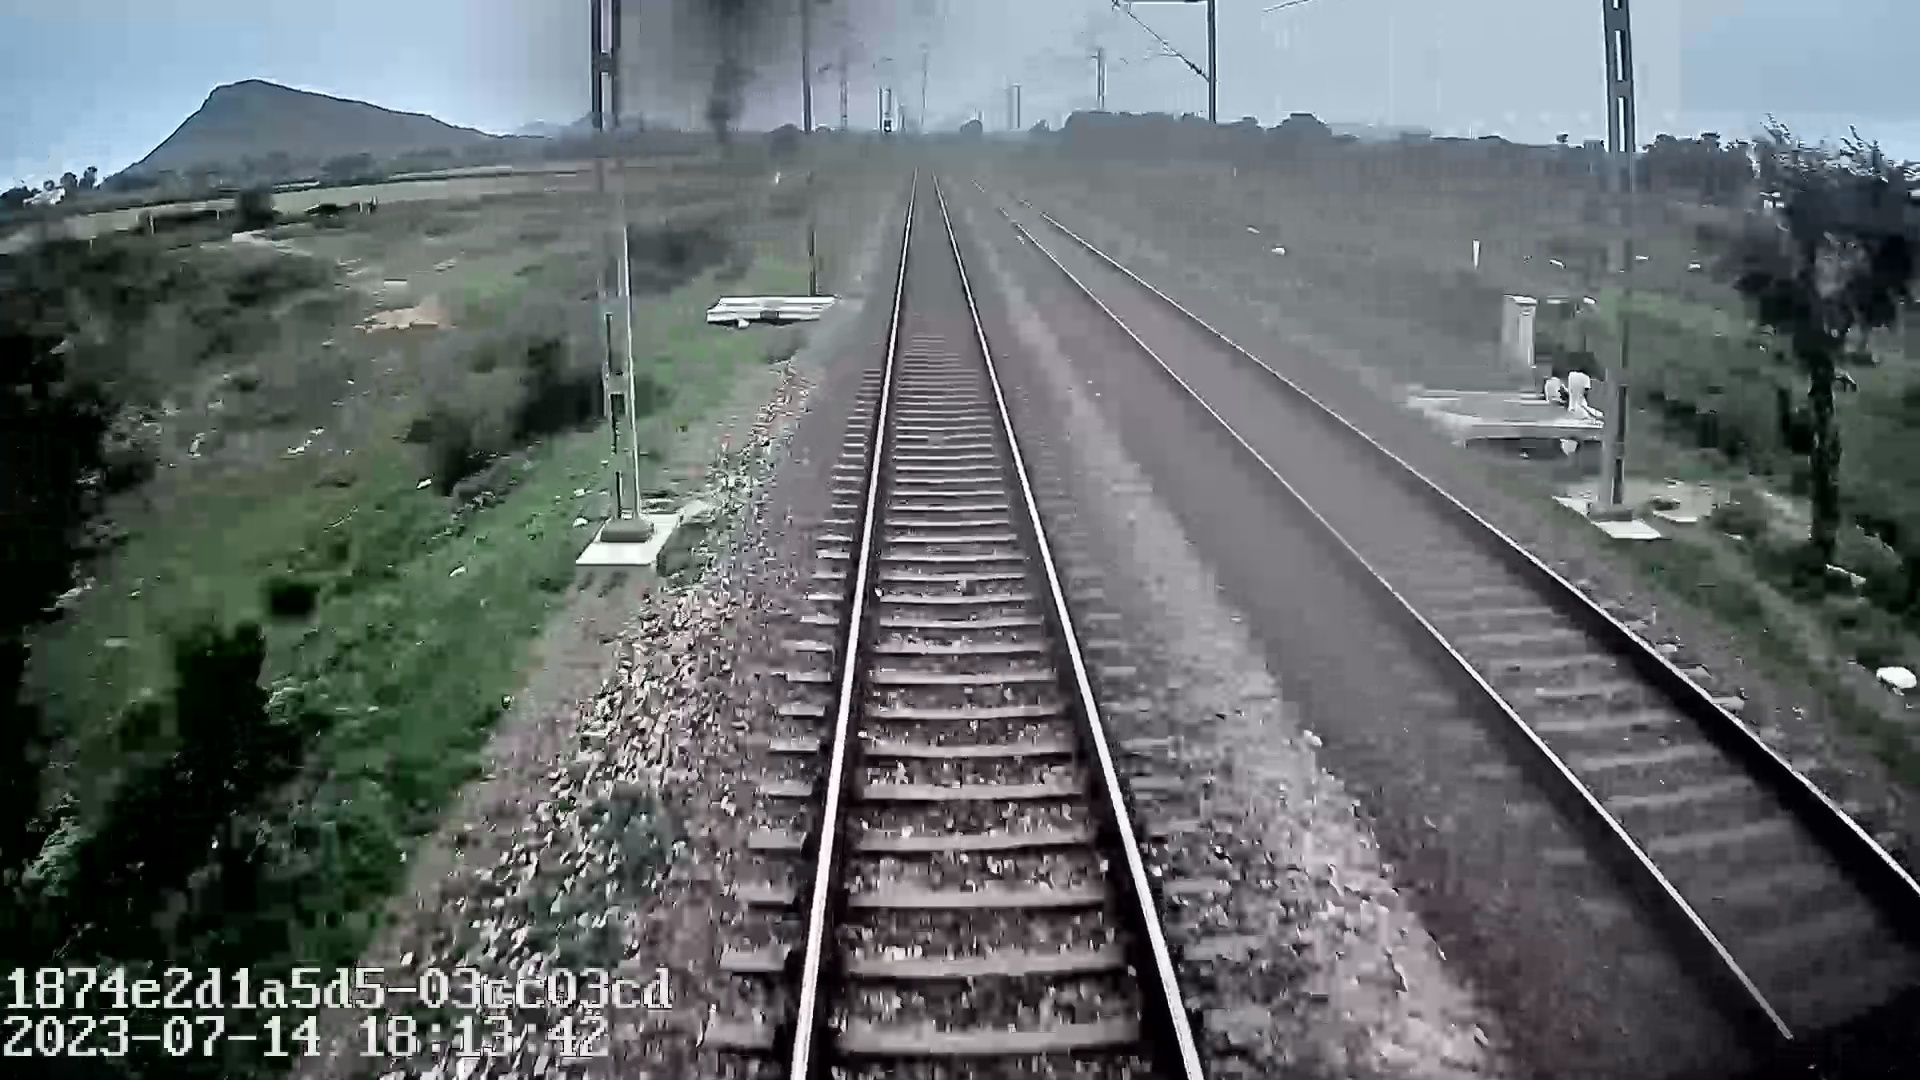track1: (801, 174, 1194, 1069)
track2: (983, 194, 1918, 1016)
